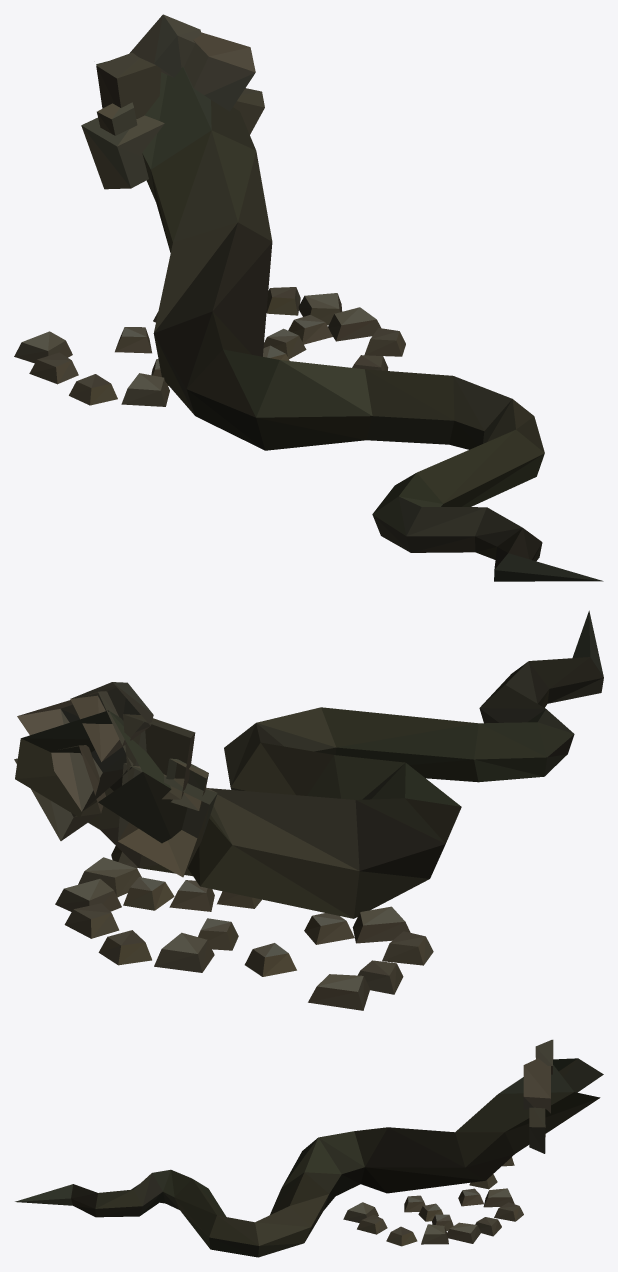
The model's file is prop_vine_3.fbx.
The picture shows the model from 3 angles, top to bottom: view 1: azimuth 30°, elevation 25°; view 2: azimuth 150°, elevation 25°; view 3: azimuth 270°, elevation 25°; orthographic projection. The views are drawn at different scales.
Parts seen in each view (by area): view 1: prop_vine_3; view 2: prop_vine_3; view 3: prop_vine_3.
Part boxes in pixels (box(x1,y1,x2,y2)): prop_vine_3: box(14, 14, 603, 581); prop_vine_3: box(14, 610, 603, 1010); prop_vine_3: box(15, 1039, 603, 1257).
Bounding box in the file's own units: 2.48 × 2.07 × 6.17.
